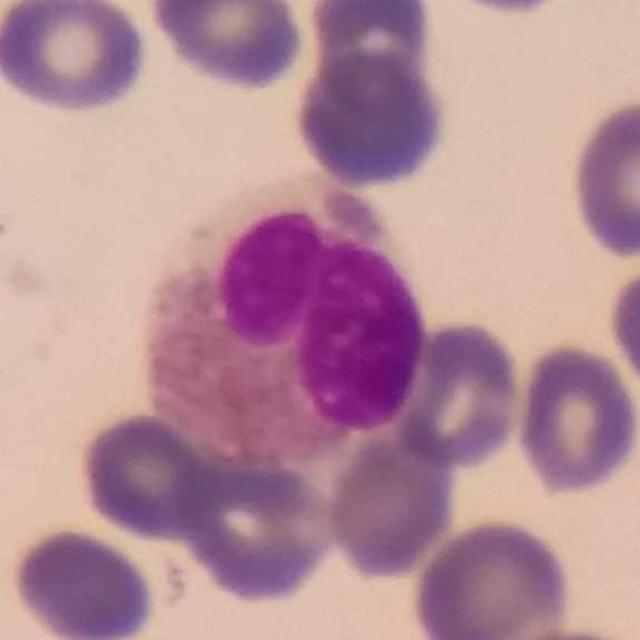Eosinophil: (138, 176, 434, 464)
RBC: (172, 454, 338, 607), (289, 47, 452, 191), (322, 421, 461, 583), (391, 316, 526, 474), (408, 514, 576, 640), (512, 339, 639, 498), (74, 409, 222, 542), (6, 523, 160, 640), (1, 0, 153, 117), (144, 0, 309, 91), (565, 92, 640, 263), (305, 0, 438, 91), (604, 256, 640, 410), (418, 0, 579, 19), (432, 0, 579, 20)
